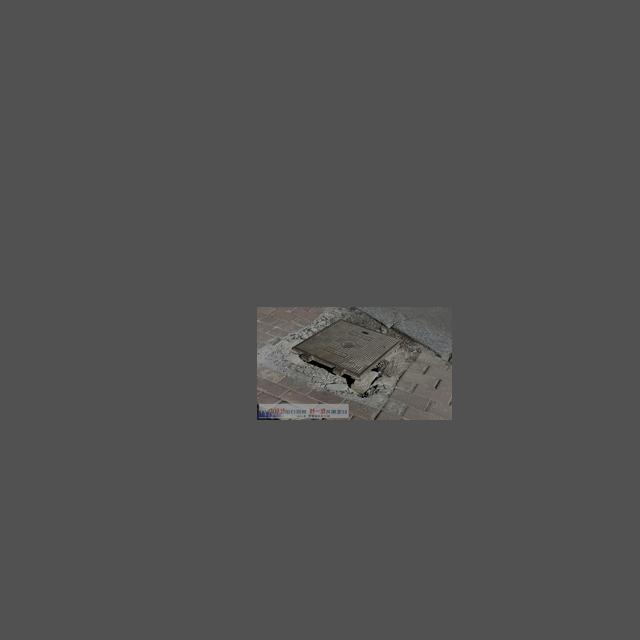circle: (268, 318, 422, 397)
